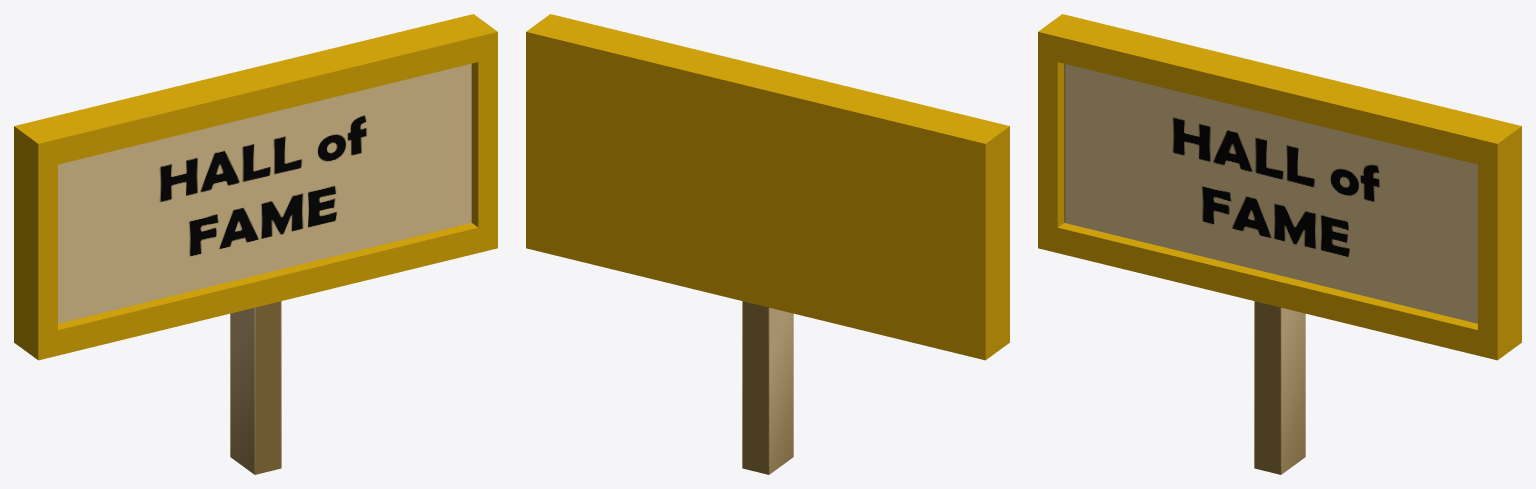
Rendered from signPost_Fame.fbx.
3 renders of one model, left to right at view 1: azimuth 30°, elevation 25°; view 2: azimuth 150°, elevation 25°; view 3: azimuth 330°, elevation 25°, orthographic.
Visible parts, largest first — view 1: pCube3; view 2: pCube3; view 3: pCube3.
Boxes of the visible parts, x1,y1,x2,y2 form: pCube3: (14,14,497,474); pCube3: (526,14,1009,474); pCube3: (1038,14,1521,474).
Size of the model in its own units: 6.34 by 5.06 by 0.5821.
Materials: 2 (1 with a texture image).
